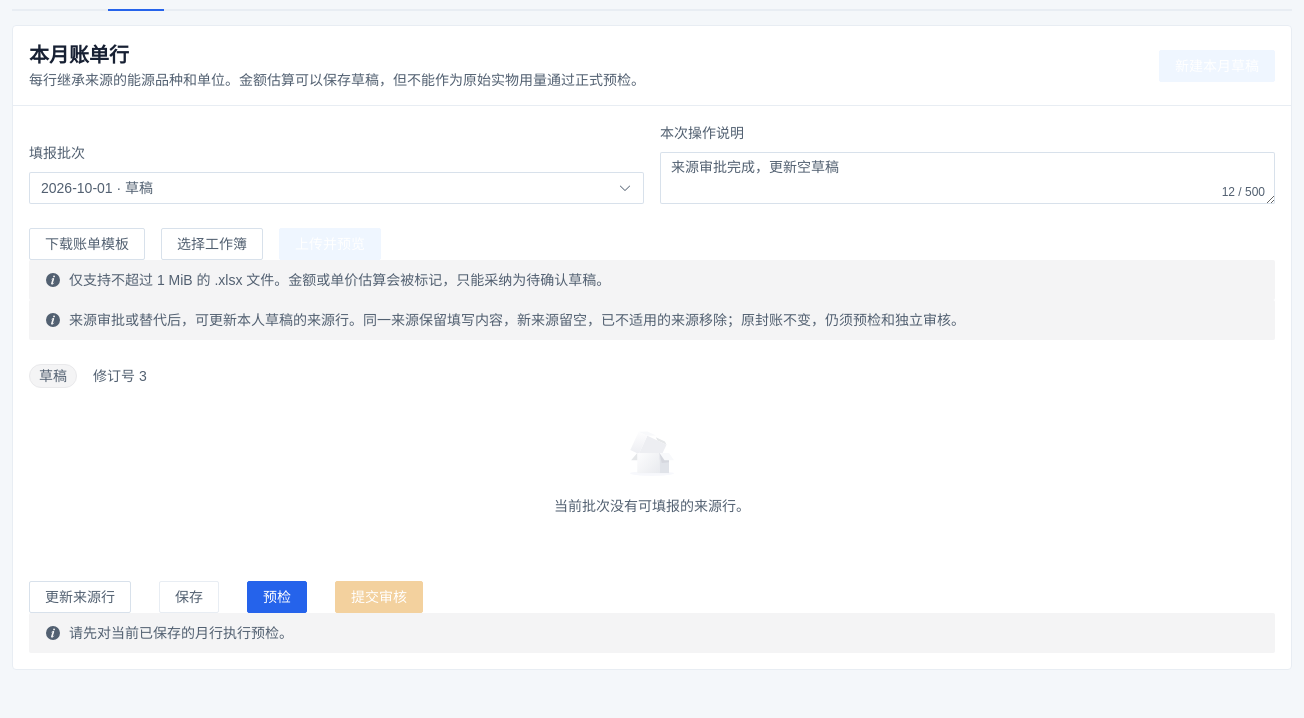
Test: 能源账单填报页 › 空草稿可显式更新已审核来源行，仍需预检和独立审核
(page scrolled)
What coordinates should you click on to do the following:
click the button with test id "batch-refresh-sources"
I would click on:
 (80, 597)
Its box is [29, 581, 131, 613].
(page scrolled)
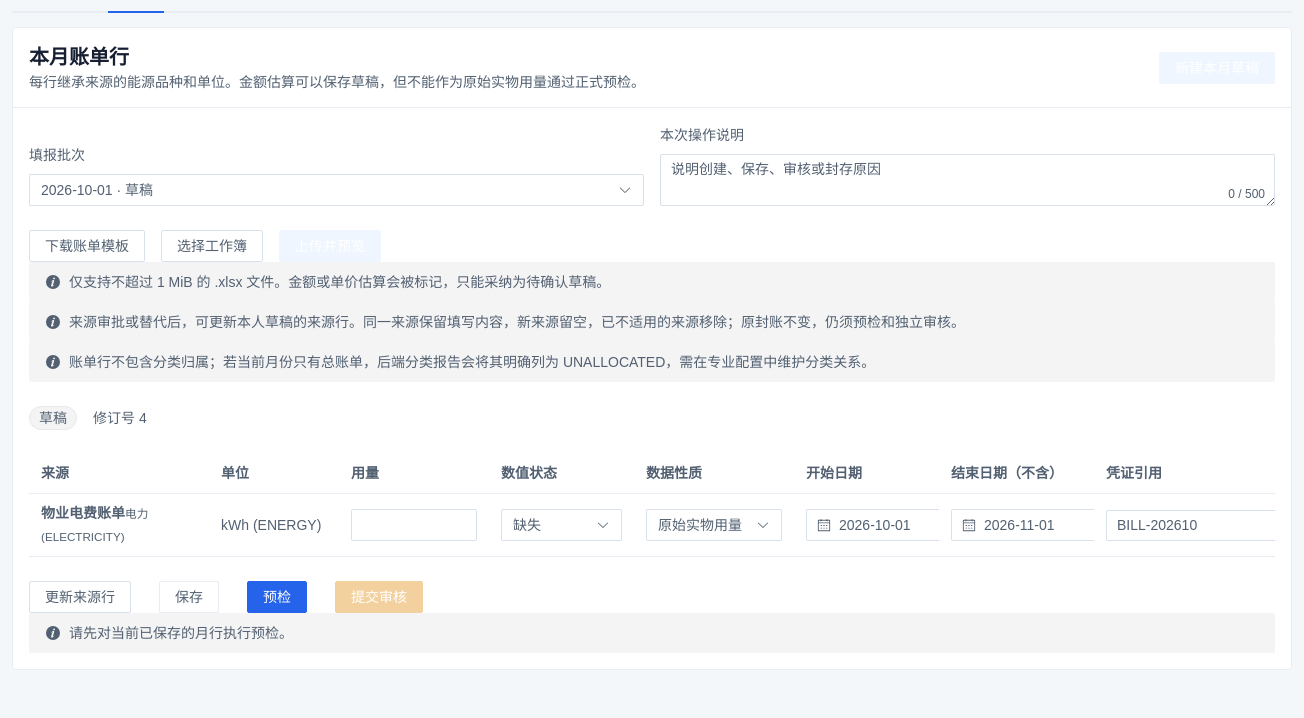
Expected: the button with test id "batch-submit" is disabled, [335, 581, 423, 613]
Expected: the field is shown, [362, 510, 466, 540]
